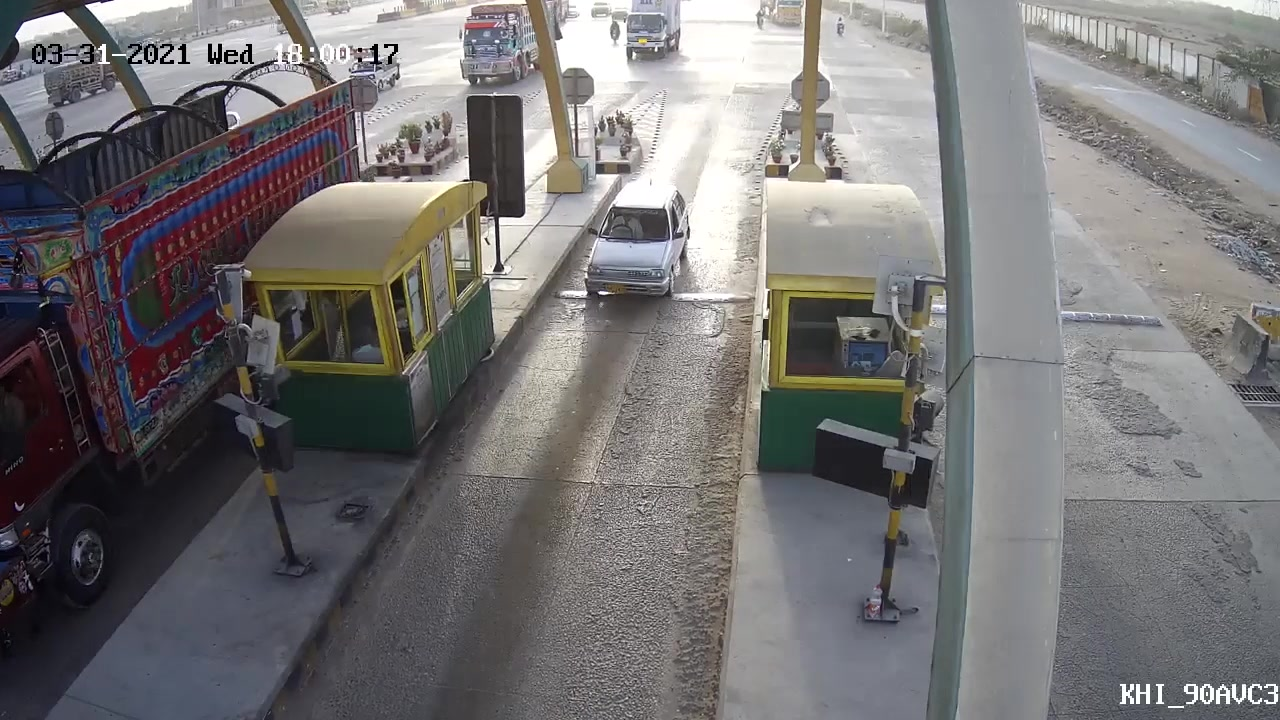F1: (569, 177, 691, 312)
